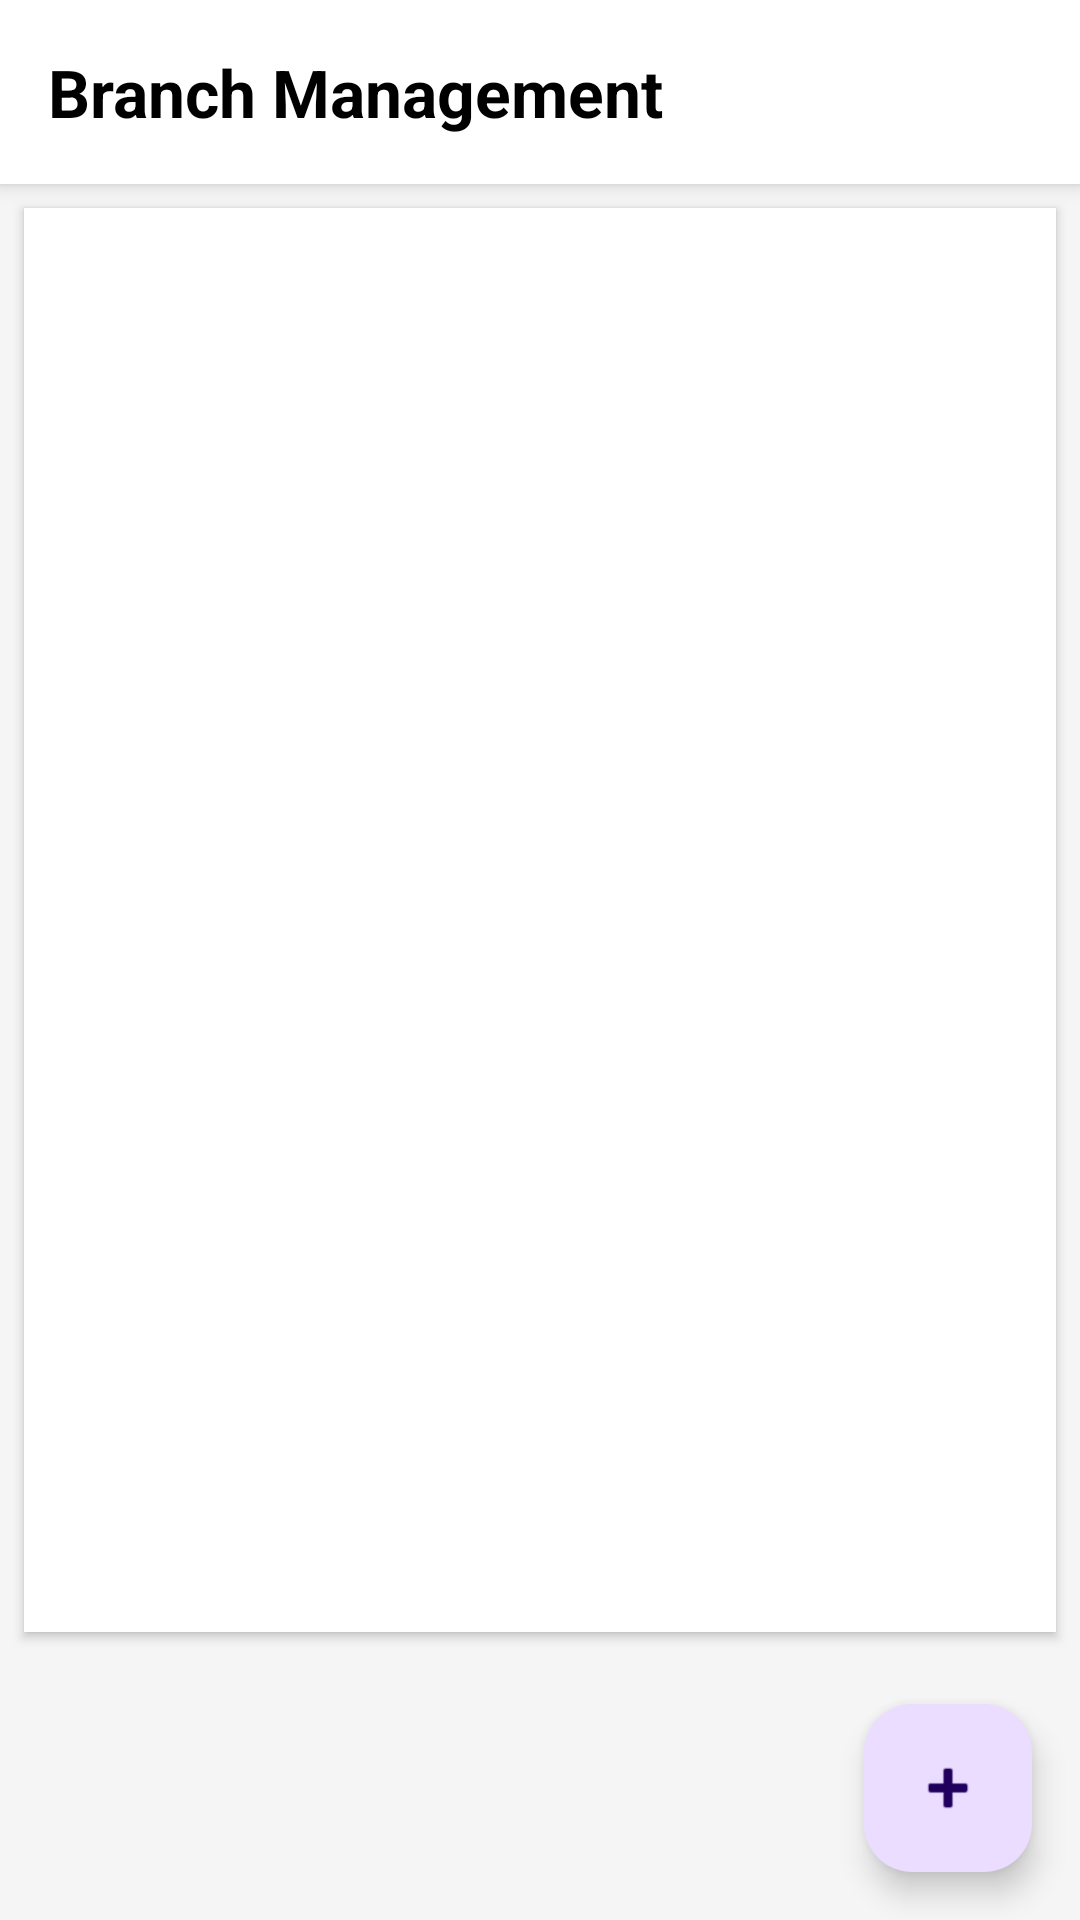

Named icons in this screenshot (1080px x 1920px) and their centers, (x=x, y=y):
Add Branch: (x=948, y=1788)
